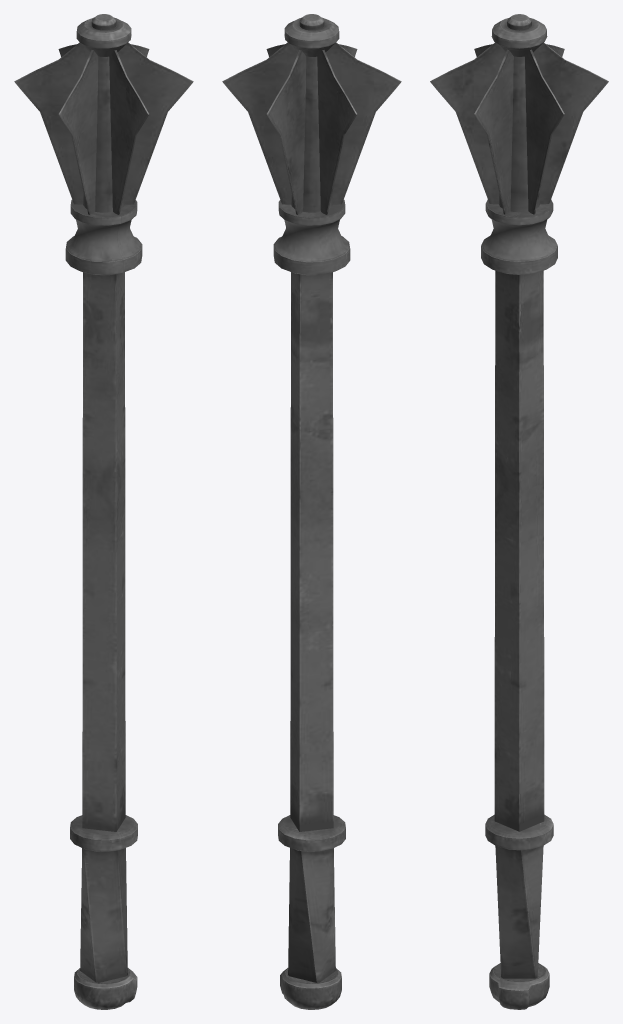
The model's file is mp_medievalmace.glb.
The picture shows the model from 3 angles, left to right: view 1: azimuth 30°, elevation 25°; view 2: azimuth 150°, elevation 25°; view 3: azimuth 270°, elevation 25°; orthographic projection.
Visible parts, largest first — view 1: Cube_4; view 2: Cube_4; view 3: Cube_4.
Boxes of the visible parts, <box> form: Cube_4: <box>14,14,193,1009</box>; Cube_4: <box>222,14,401,1009</box>; Cube_4: <box>430,14,608,1009</box>.
Bounding box in the file's own units: 0.1177 × 0.82 × 0.1352.
Materials: 1 (1 with a texture image).
